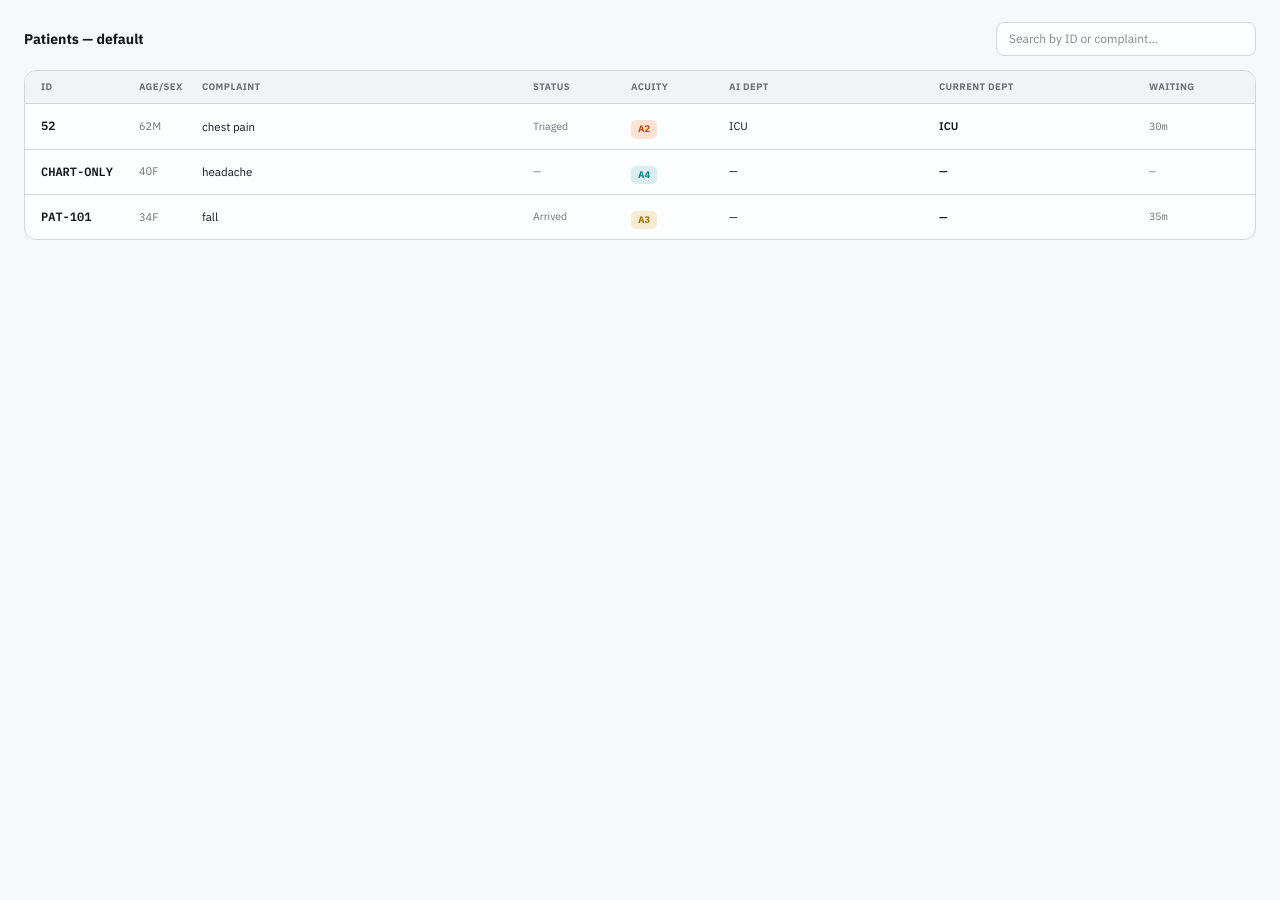
Test case: PatientList table › opens the drawer for a chart-less simulation-only patient using its live record
The width and height of the screenshot is (1280, 900).
Click the text "PAT-101".
click(66, 216)  # box 41,209 -> 91,224
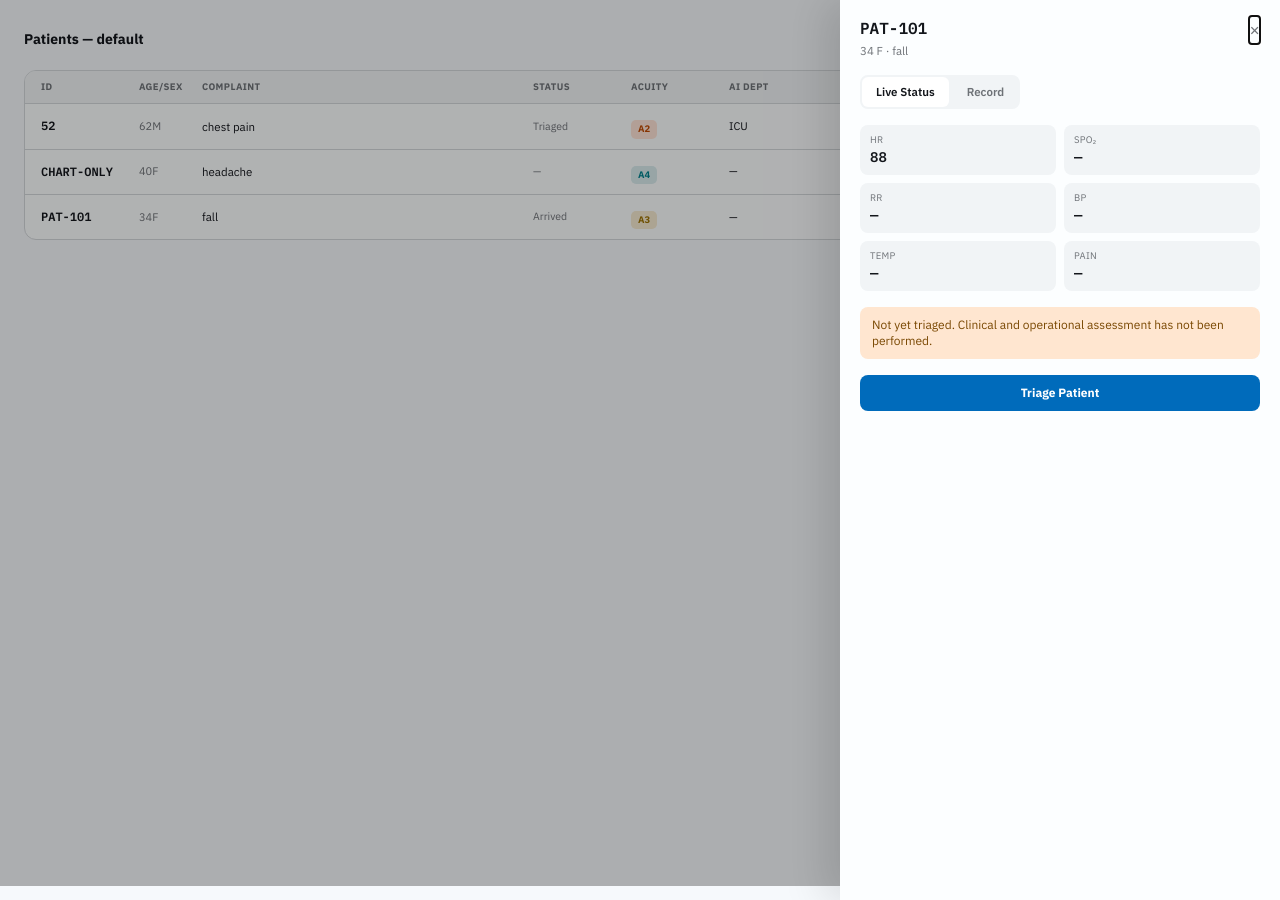
expect the button "Triage Patient" is shown: met, box 860,375 -> 1260,411
expect the text "34 F · fall" is shown: met, box 860,43 -> 908,58
expect the text "88" is shown: met, box 870,148 -> 887,166
